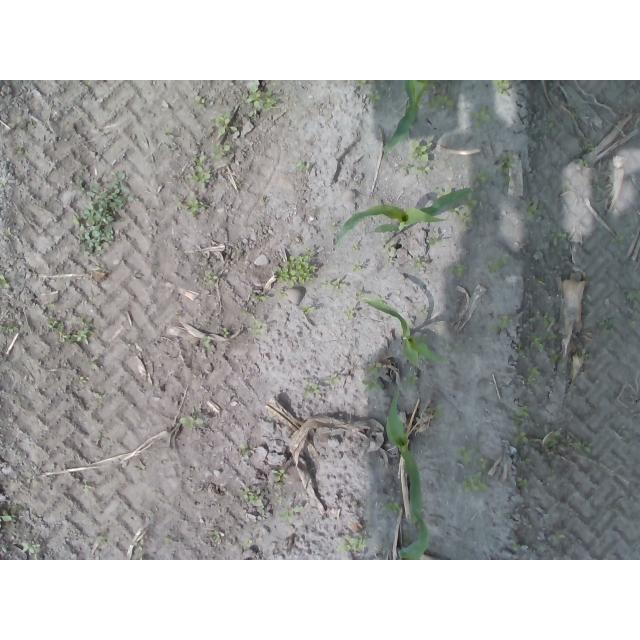Maize: (386, 384, 443, 524), (335, 188, 473, 235), (362, 298, 451, 368), (383, 80, 428, 153), (394, 516, 432, 561)
Weeds: (71, 174, 141, 258), (271, 246, 321, 290), (240, 80, 281, 120), (208, 109, 238, 159), (543, 430, 593, 455), (447, 200, 478, 233), (409, 137, 431, 176), (57, 324, 93, 345), (512, 404, 530, 446), (465, 104, 492, 128), (191, 154, 213, 183), (429, 92, 456, 113), (360, 365, 379, 394), (462, 474, 490, 492), (486, 254, 511, 274), (279, 506, 305, 525), (179, 414, 205, 430), (341, 536, 367, 552), (400, 374, 419, 395), (600, 318, 619, 338), (457, 445, 478, 463), (500, 153, 512, 182), (303, 383, 321, 402), (248, 318, 265, 338), (528, 366, 545, 385), (551, 230, 568, 249), (470, 167, 486, 186), (385, 497, 402, 514), (496, 312, 514, 328), (271, 468, 287, 485), (494, 81, 512, 96), (448, 264, 467, 278), (526, 204, 546, 217), (320, 278, 340, 291), (473, 456, 489, 472), (530, 335, 544, 353), (21, 542, 40, 555), (623, 289, 640, 303), (191, 197, 203, 216), (252, 292, 269, 305), (414, 257, 428, 272), (424, 406, 440, 419), (342, 307, 355, 321), (194, 96, 207, 110), (367, 90, 382, 102), (550, 348, 561, 364), (1, 274, 12, 290), (545, 333, 564, 342), (580, 139, 593, 152), (1, 325, 16, 336), (0, 514, 16, 524), (543, 313, 554, 327), (350, 264, 364, 275), (208, 531, 220, 542), (244, 492, 257, 502), (302, 304, 312, 317), (296, 159, 306, 171), (208, 272, 217, 285), (423, 239, 433, 250), (47, 319, 58, 329), (519, 478, 529, 489), (222, 328, 231, 338), (201, 336, 211, 345), (353, 80, 367, 86), (78, 376, 87, 385), (614, 234, 624, 242), (244, 539, 252, 547)
